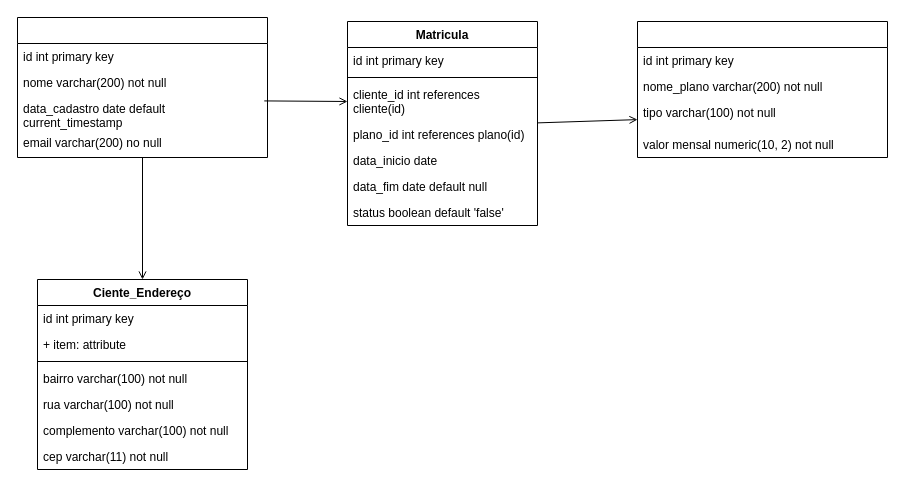
Some shapes in this 905 by 490 pixel diagram are drawn without their labels. The shapes that lost their labels are listed below. From the top down, each one's box as (x1, y1, x2, y2) in pixels, then its label:
(16, 16, 268, 158): Clientes
(636, 20, 888, 158): Planos
